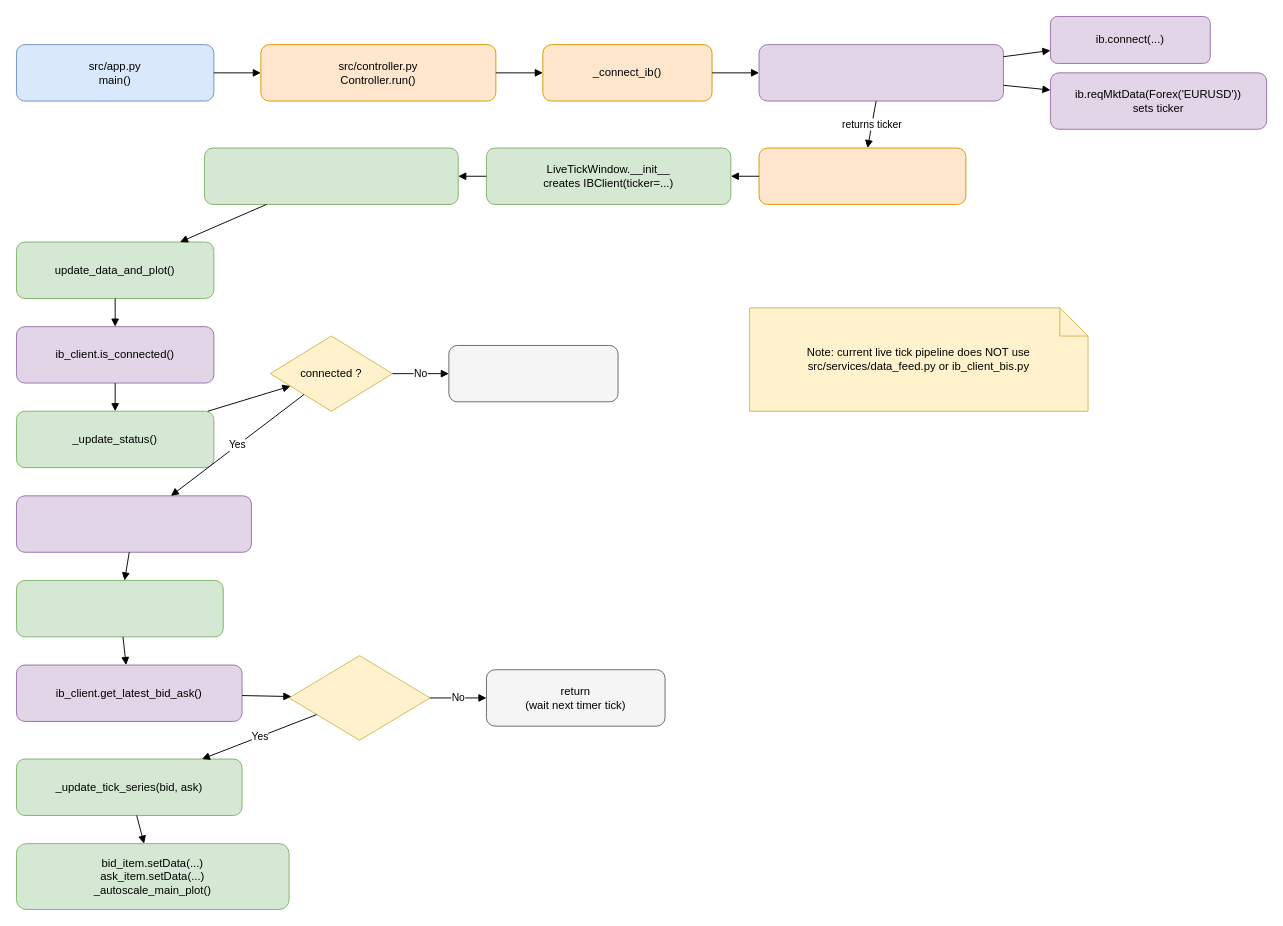
The diagram is 1283 pixels wide and 926 high, and some of its shapes have lost their labels. Here are the shapes that lost their labels. From the top down, the centre of each, then its label:
At (x=880, y=72): "IBClient.connect_and_prepare()".
At (x=331, y=175): "QTimer interval = 100ms timeout -> update_data_and_plot()".
At (x=862, y=175): "_create_window(ticker)".
At (x=533, y=373): "return (no tick update)".
At (x=133, y=523): "ib_client.process_messages() ib.sleep(0)".
At (x=119, y=608): "_update_portfolio_value()".
At (x=359, y=697): "bid/ask available ?".
